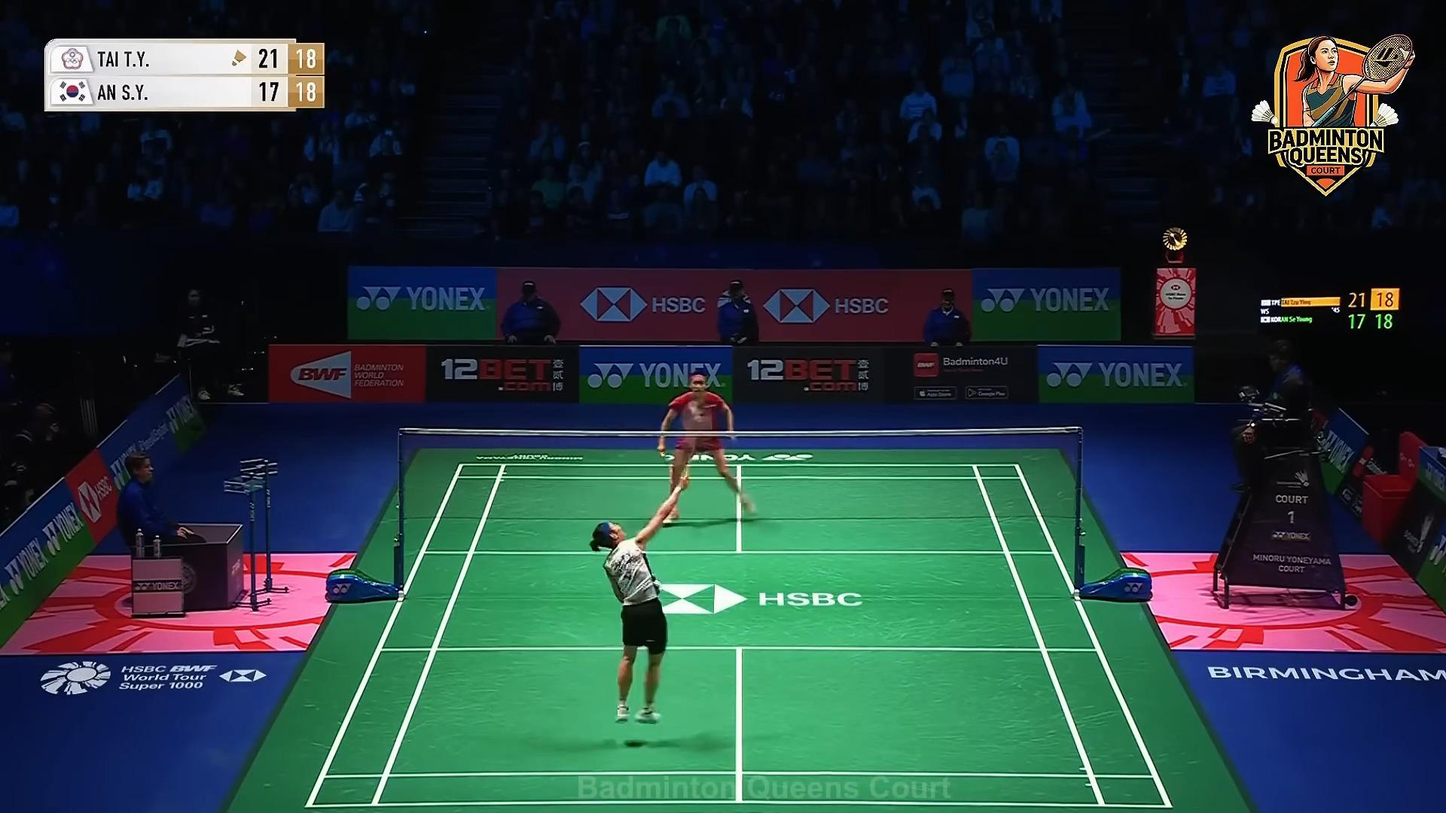player: (589, 470, 691, 726), (658, 368, 755, 527)
